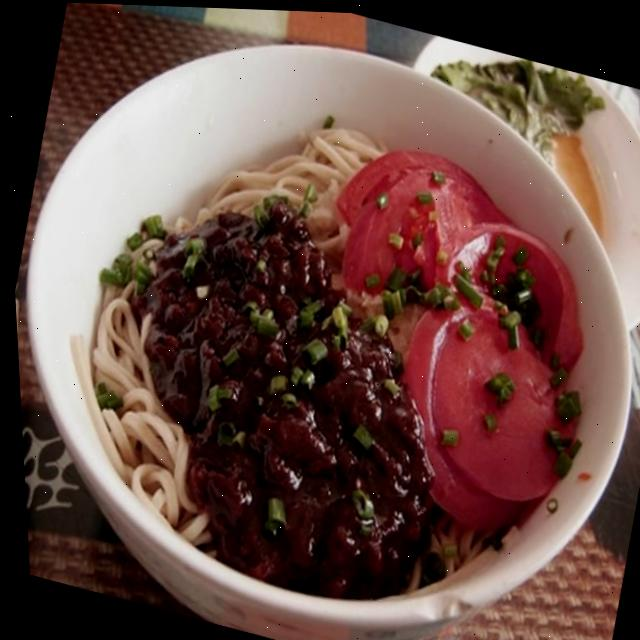面条主食: (0, 8, 640, 640)
